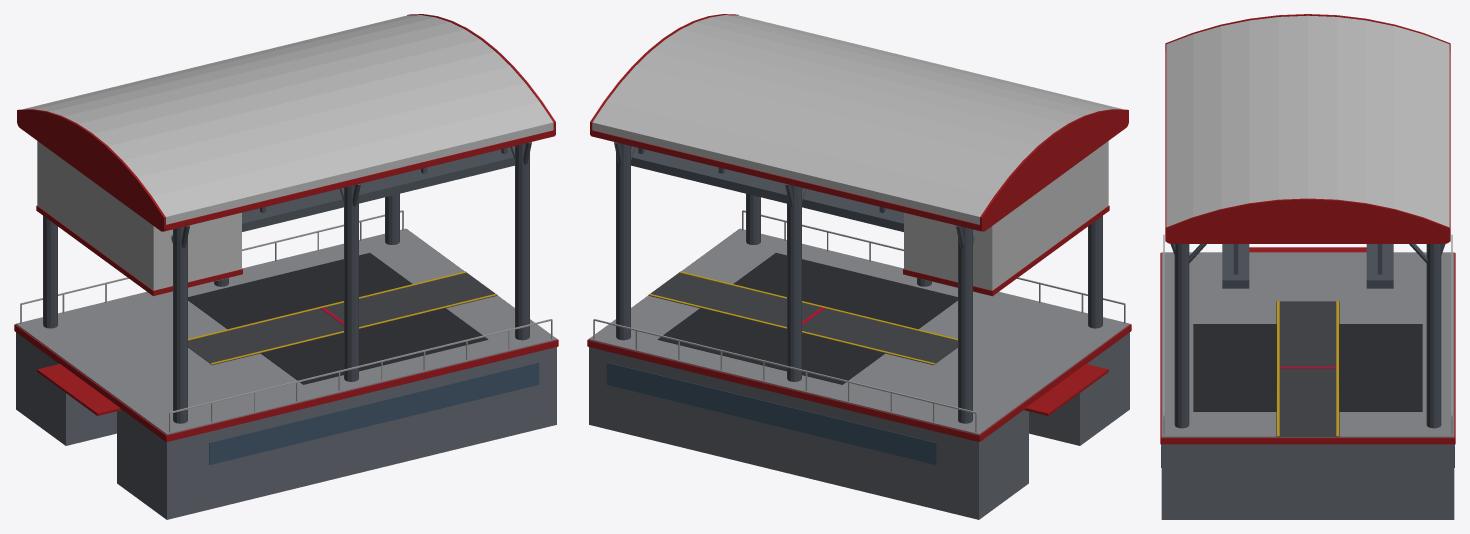
The model's file is tram_terminal.obj.
3 renders of one model, left to right at view 1: azimuth 30°, elevation 25°; view 2: azimuth 150°, elevation 25°; view 3: azimuth 270°, elevation 25°, orthographic. The views are drawn at different scales.
Size of the model in its own units: 20.66 by 15.74 by 13.12.
